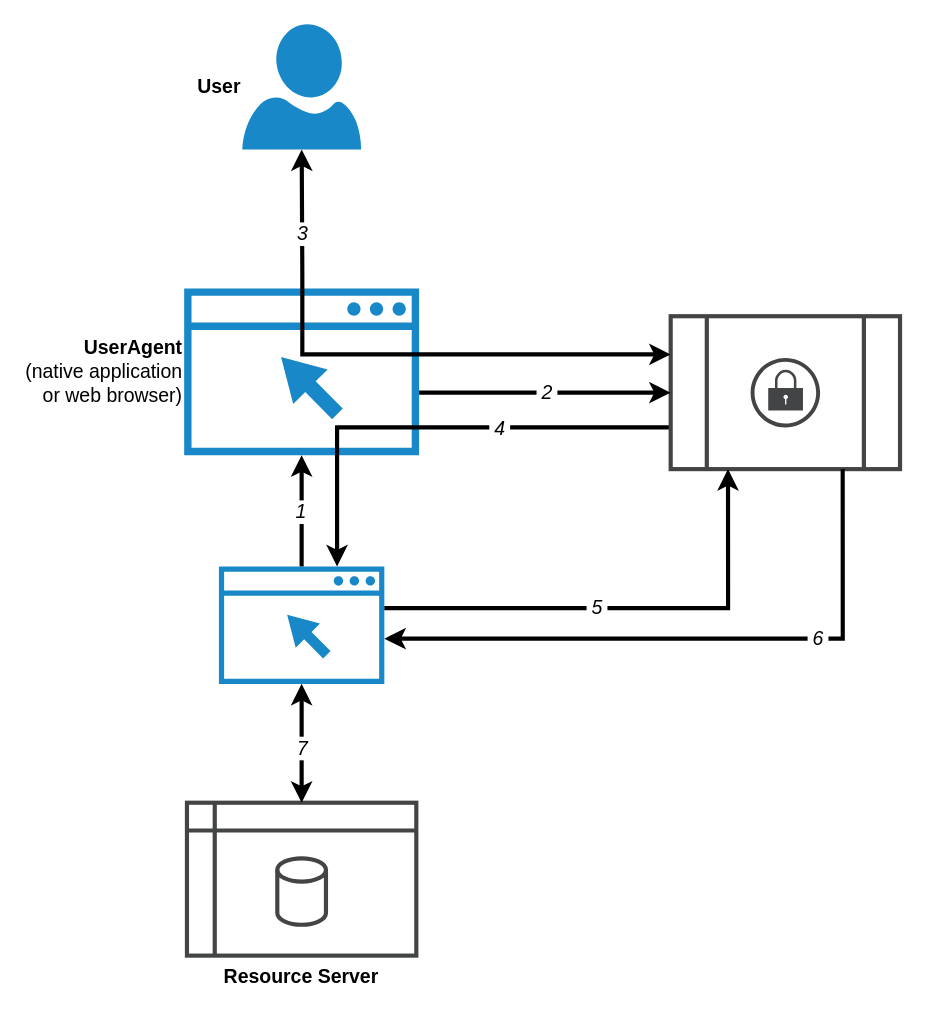
Image size: 926x1012. Some labels were removed from this diagram. Here are the shapes that lost their labels. From the top down, the box of each, then its label:
(668, 313, 901, 471): Authorization Server
(218, 566, 384, 683): Client
